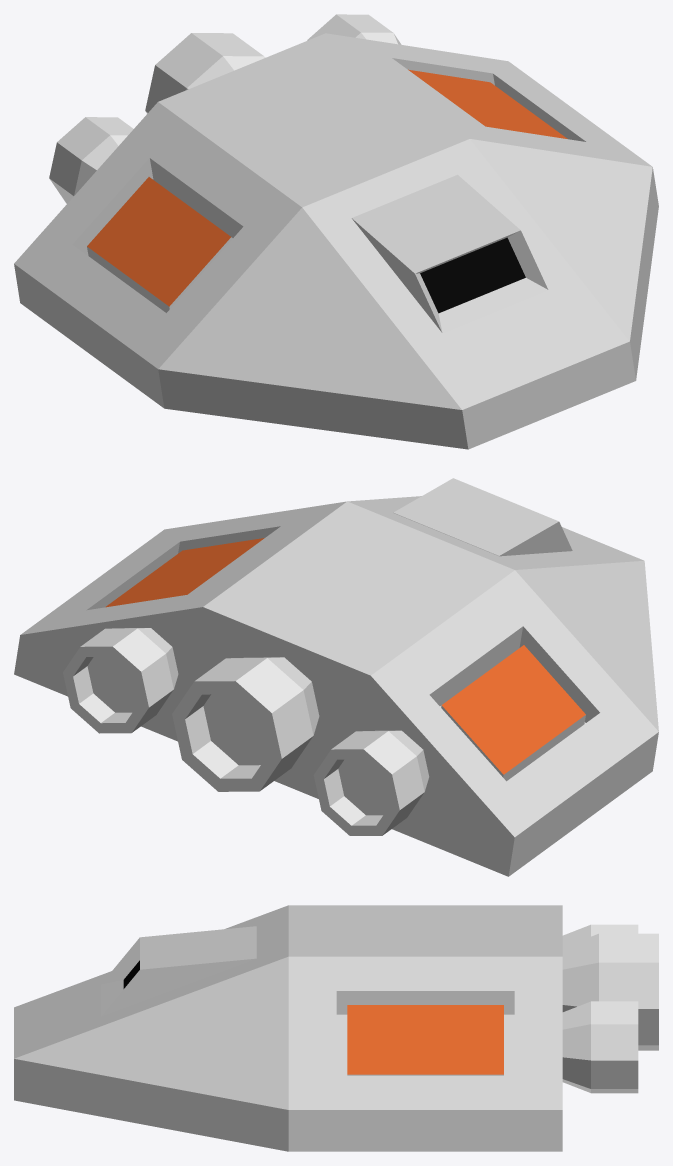
File: spaceship.fbx
3 views of the same model, one above another, from view 1: azimuth 30°, elevation 25°; view 2: azimuth 150°, elevation 25°; view 3: azimuth 270°, elevation 25° (orthographic). The views are drawn at different scales.
Parts seen in each view (by area): view 1: spaceship, Circle.001, Circle; view 2: spaceship, Circle.001, Circle; view 3: spaceship, Circle.001, Circle.
Part boxes in pixels (box(x1,y1,x2,y2)): spaceship: box(14, 33, 658, 449); Circle.001: box(49, 14, 401, 203); Circle: box(145, 33, 265, 113); spaceship: box(14, 478, 658, 876); Circle.001: box(63, 628, 429, 835); Circle: box(172, 657, 319, 791); spaceship: box(14, 905, 562, 1151); Circle.001: box(562, 924, 638, 1093); Circle: box(562, 933, 658, 1050).
Size of the model in its own units: 200 by 74.56 by 235.
